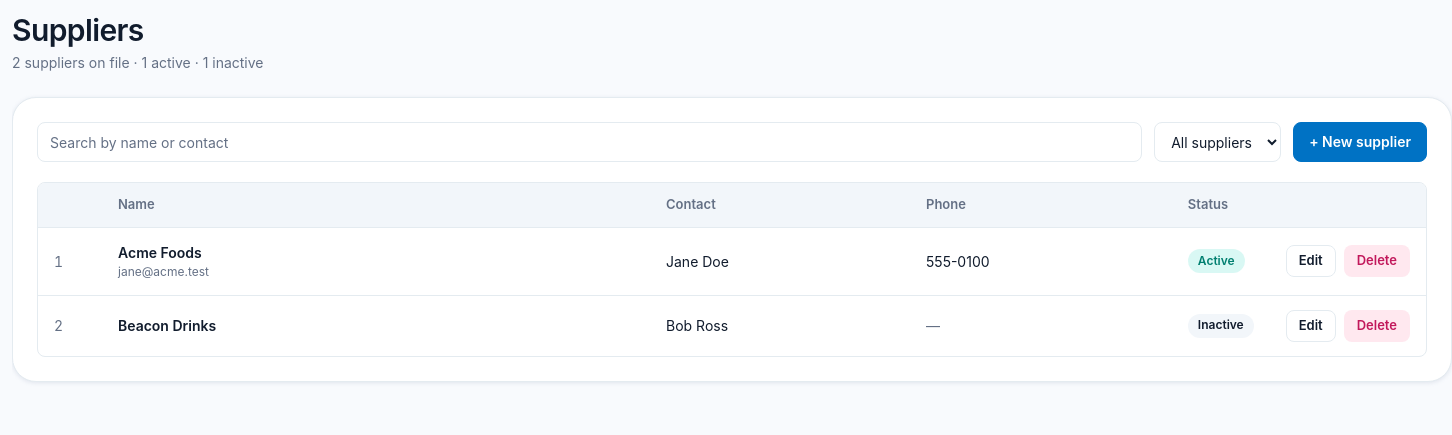
Test: SuppliersPage — search and status filter › shows the no-match empty state when the search has no hits
Type "zzz" into the search field named "Search suppliers". click: (590, 142)
box: [37,122,1142,162]
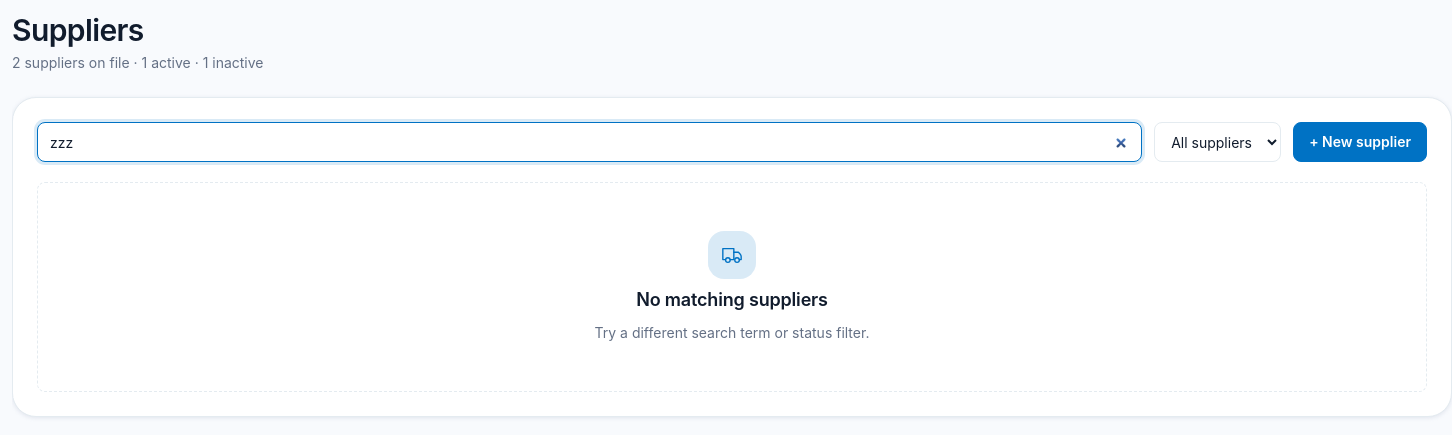
Expected: the heading "No matching suppliers" is shown, [636,289,828,312]
